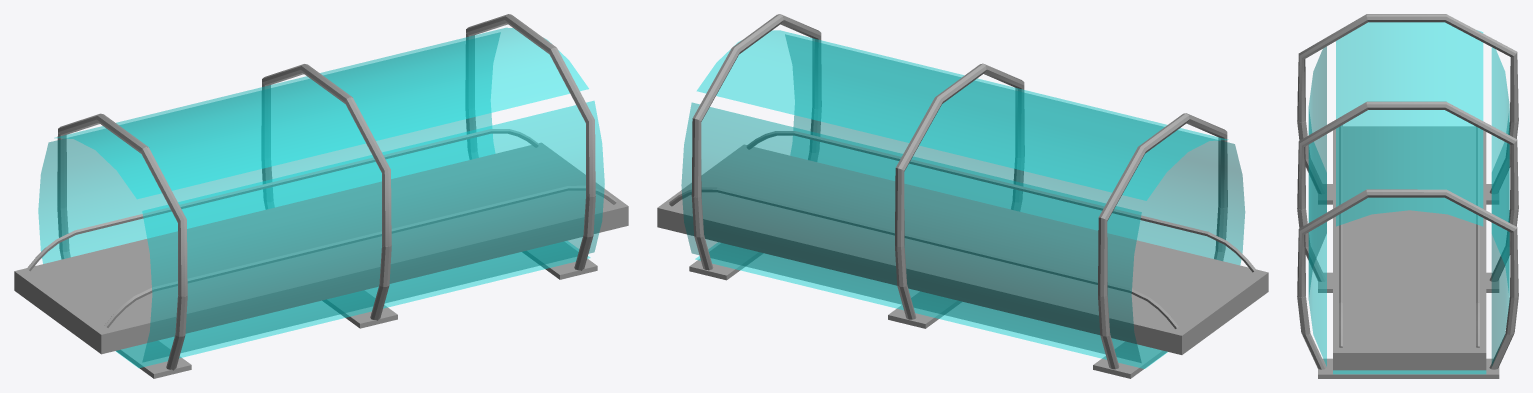
File: pedestrian-overpass.fbx
The picture shows the model from 3 angles, left to right: view 1: azimuth 30°, elevation 25°; view 2: azimuth 150°, elevation 25°; view 3: azimuth 270°, elevation 25°; orthographic projection. The views are drawn at different scales.
Visible parts, largest first — view 1: glass2, glass1, glass13, floor_piece1, floor_piece2, floor_piece, glass, bracket_piece1 (×3), railing_piece1 (×2), bracket_piece2 (×3), bracket_piece4 (×3), bracket_piece (×3) (+3 smaller); view 2: glass1, glass2, glass13, floor_piece1, floor_piece2, floor_piece, glass, railing_piece1 (×2), bracket_piece2 (×3), bracket_piece1 (×3), bracket_piece3 (×3), bracket_piece (×3) (+3 smaller); view 3: glass13, floor_piece1, floor_piece, floor_piece2, glass1, glass2, bracket_piece2 (×3), bracket_piece1 (×3), support2, bracket_piece4 (×3), bracket_piece3 (×3), bracket_piece (×3) (+4 smaller).
Part boxes in pixels (x1,y1,x2,y2): glass2: (142, 101, 604, 362); glass1: (38, 32, 500, 263); glass13: (54, 27, 588, 199); floor_piece1: (154, 164, 481, 319); floor_piece2: (14, 237, 247, 354); floor_piece: (455, 142, 628, 261); glass: (115, 241, 590, 367); bracket_piece1 (×3): (141, 47, 595, 296); railing_piece1 (×2): (75, 129, 568, 291); bracket_piece2 (×3): (58, 14, 556, 153); bracket_piece4 (×3): (166, 195, 595, 370); bracket_piece (×3): (57, 33, 474, 208); glass1: (681, 102, 1141, 362); glass2: (785, 34, 1245, 265); glass13: (697, 30, 1228, 200); floor_piece1: (731, 184, 1121, 322); floor_piece2: (1043, 237, 1268, 354); floor_piece: (657, 144, 895, 244); glass: (695, 242, 1167, 368); railing_piece1 (×2): (716, 131, 1208, 292); bracket_piece2 (×3): (692, 14, 1189, 220); bracket_piece1 (×3): (780, 14, 1227, 208); bracket_piece3 (×3): (691, 195, 1119, 369); bracket_piece (×3): (691, 118, 1107, 296); glass13: (1336, 22, 1483, 226); floor_piece1: (1333, 186, 1486, 315); floor_piece: (1333, 285, 1486, 370); floor_piece2: (1333, 126, 1486, 189); glass1: (1491, 47, 1509, 366); glass2: (1308, 46, 1326, 366); bracket_piece2 (×3): (1366, 14, 1516, 232); bracket_piece1 (×3): (1297, 14, 1368, 297); support2: (1318, 358, 1499, 378); bracket_piece4 (×3): (1297, 121, 1326, 369); bracket_piece3 (×3): (1489, 121, 1518, 369); bracket_piece (×3): (1510, 52, 1518, 297).
Size of the model in its own units: 0.1399 by 0.0525 by 0.0579.
